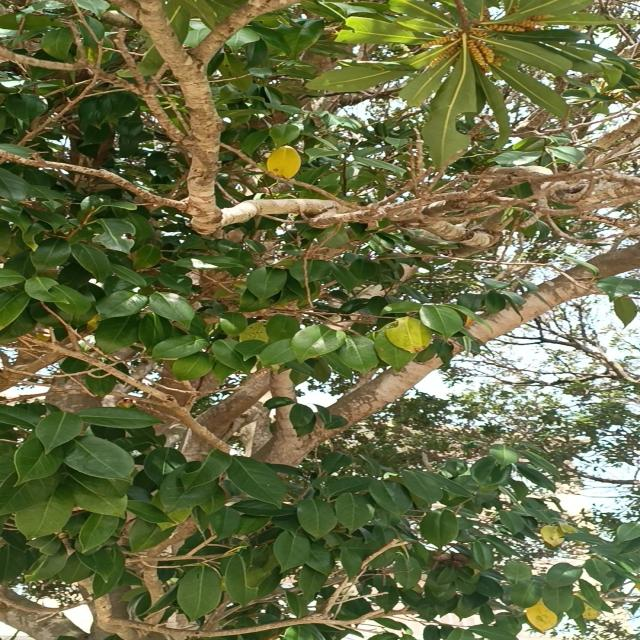Branch: (260, 243, 640, 467)
Twig: (106, 0, 348, 230), (18, 335, 234, 456), (0, 152, 186, 209), (191, 0, 300, 64)
